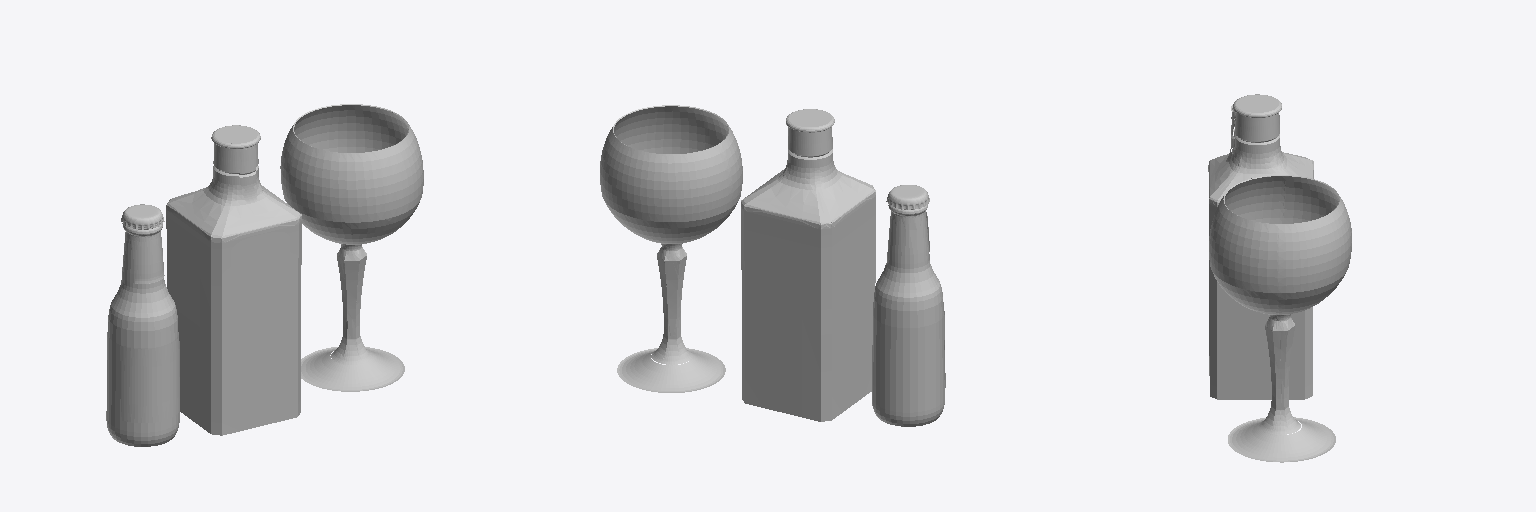
The model's file is Set bottles glass N220715.obj.
The picture shows the model from 3 angles: view 1: azimuth 30°, elevation 25°; view 2: azimuth 150°, elevation 25°; view 3: azimuth 270°, elevation 25°; orthographic projection.
Visible parts, largest first — view 1: Obj_000009, Obj_000014, Obj_000006, Obj_000002, Obj_000005, Obj_000012, Obj_000013, Obj_000008, Obj_000001, 35_Coca_Co, Obj_000007, Obj_000010; view 2: Obj_000009, Obj_000014, Obj_000002, Obj_000012, Obj_000013, Obj_000008, 35_Coca_Co, Obj_000007; view 3: Obj_000014, Obj_000009, Obj_000012, Obj_000013, Obj_000008, Obj_000007.
Boxes of the visible parts, <box> form: Obj_000009: <box>166,177,301,435</box>; Obj_000014: <box>280,104,423,244</box>; Obj_000006: <box>231,232,289,411</box>; Obj_000002: <box>106,220,179,446</box>; Obj_000005: <box>120,338,179,422</box>; Obj_000012: <box>301,347,404,391</box>; Obj_000013: <box>331,244,372,364</box>; Obj_000008: <box>211,125,260,184</box>; Obj_000001: <box>132,236,164,283</box>; 35_Coca_Co: <box>121,204,164,229</box>; Obj_000007: <box>215,125,257,143</box>; Obj_000010: <box>239,147,256,185</box>; Obj_000009: <box>741,160,875,421</box>; Obj_000014: <box>600,105,742,243</box>; Obj_000002: <box>872,205,944,426</box>; Obj_000012: <box>617,348,725,392</box>; Obj_000013: <box>651,243,692,364</box>; Obj_000008: <box>786,109,834,167</box>; 35_Coca_Co: <box>886,185,929,209</box>; Obj_000007: <box>788,109,831,126</box>; Obj_000014: <box>1209,175,1351,314</box>; Obj_000009: <box>1208,146,1313,399</box>; Obj_000012: <box>1228,417,1335,462</box>; Obj_000013: <box>1259,314,1300,434</box>; Obj_000008: <box>1233,94,1281,153</box>; Obj_000007: <box>1236,95,1278,112</box>.
Size of the model in its own units: 28.31 by 23.41 by 11.18.